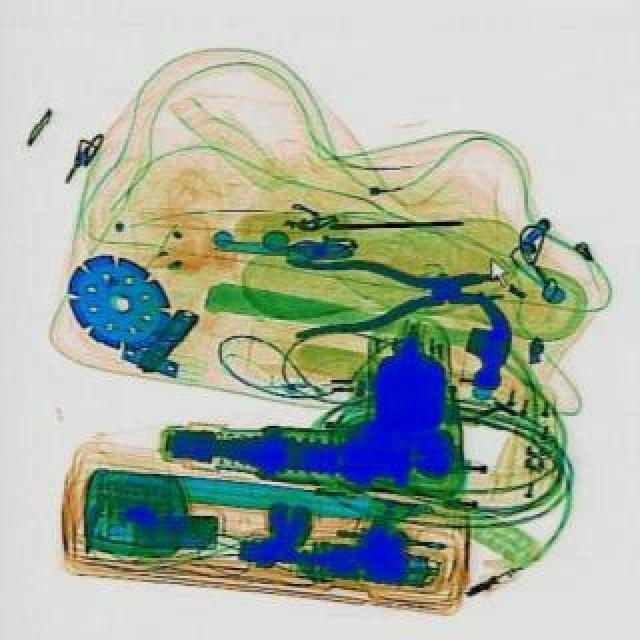wrench: (284, 246, 504, 338)
